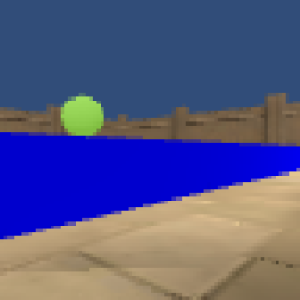goodGoal: (56, 89, 105, 136)
platform: (1, 136, 296, 234)
